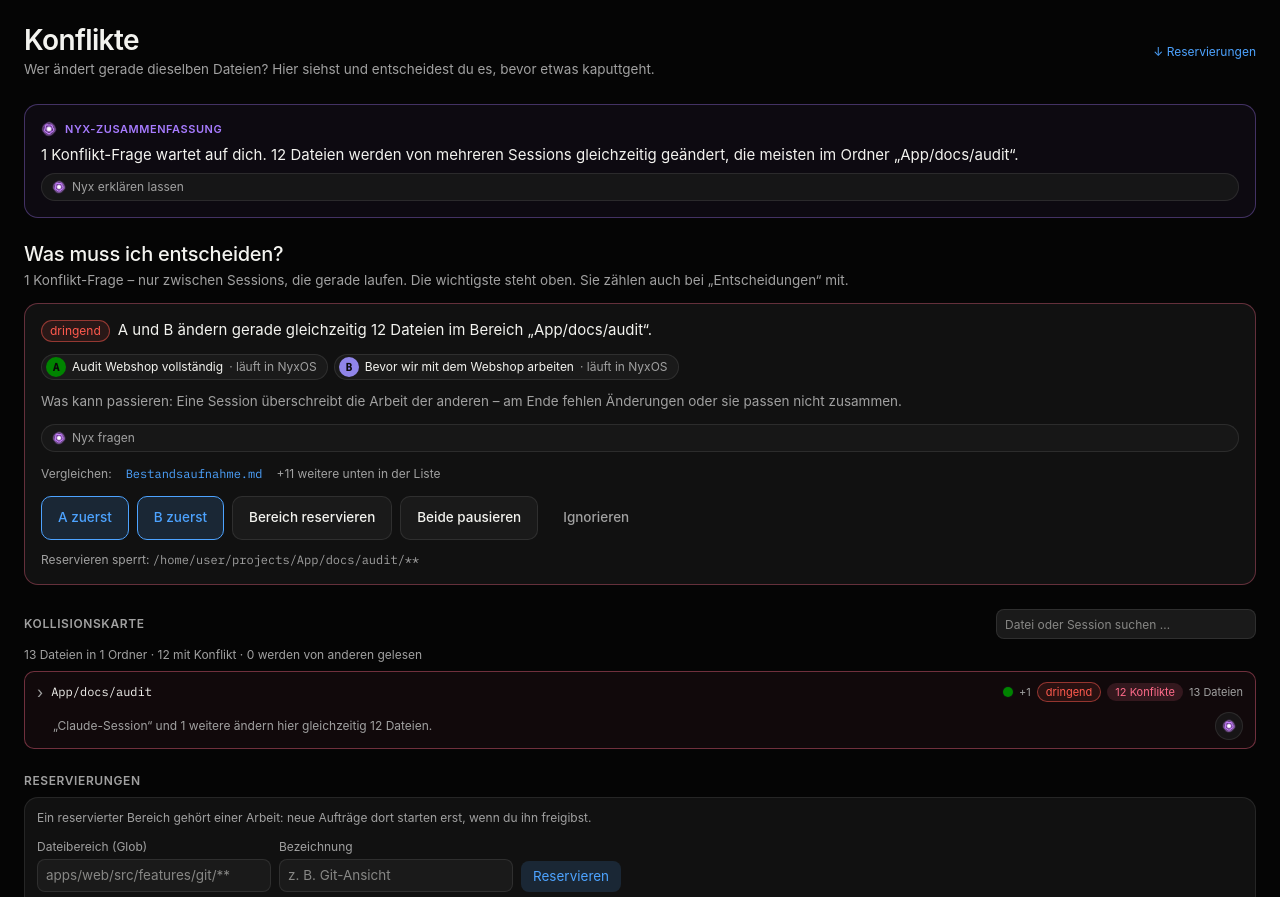
Konflikte-Tab: Zusammenfassung › Gruppe aufklappen lädt deren Dateien seitenweise
What coordinates should you click on to do the following:
click the button with test id "group-toggle"
I would click on:
 (102, 692)
Its box is [25,672,1255,712].
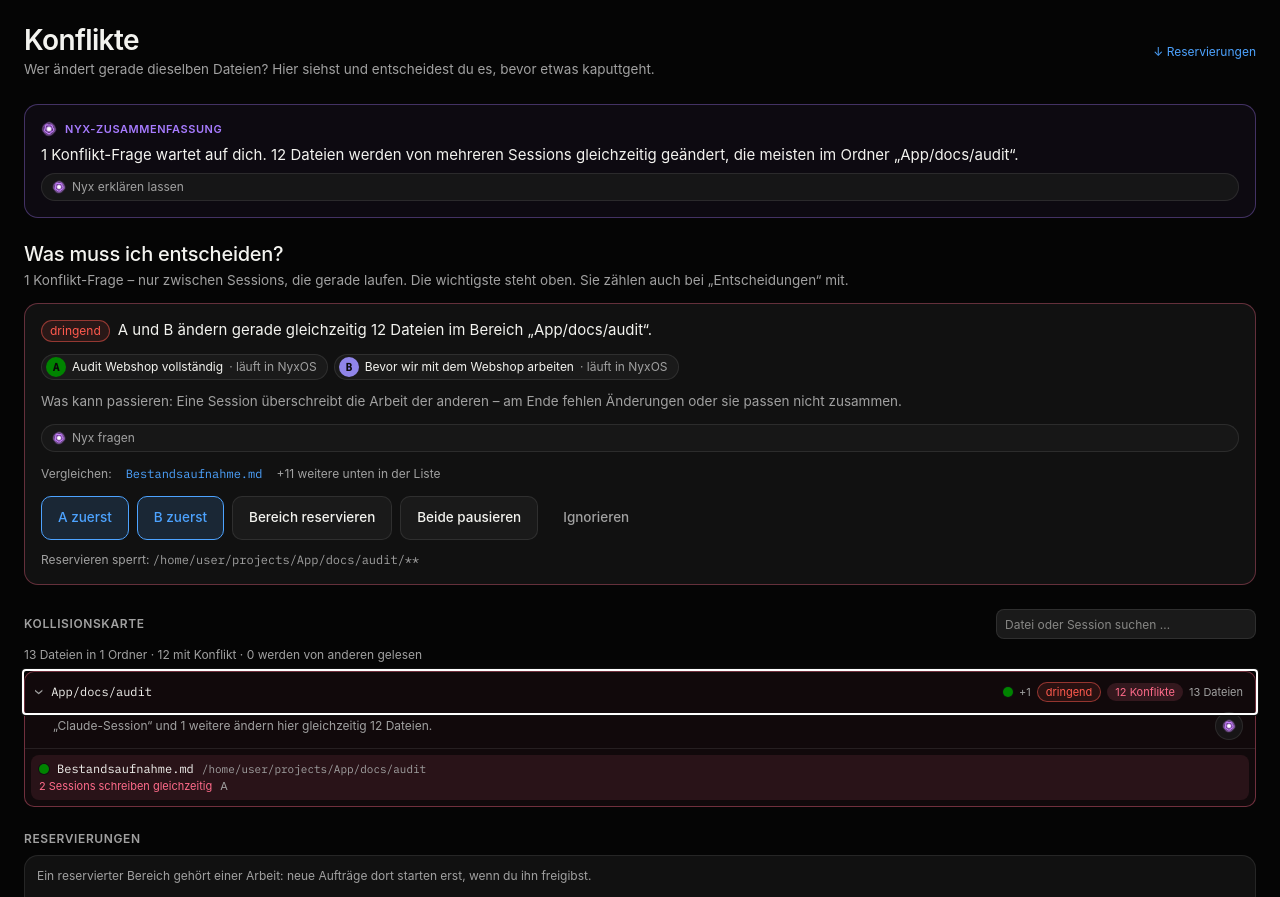
Expected: the text "Bestandsaufnahme.md" is shown, [57,761,194,778]
